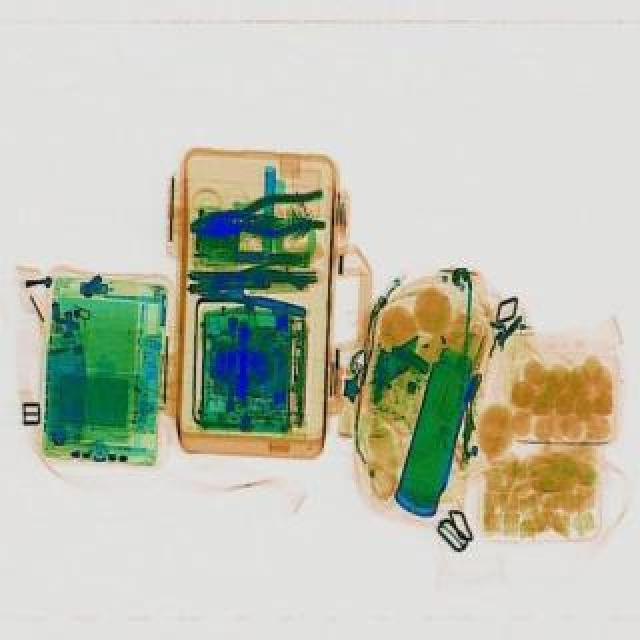wrench: (188, 186, 330, 246)
